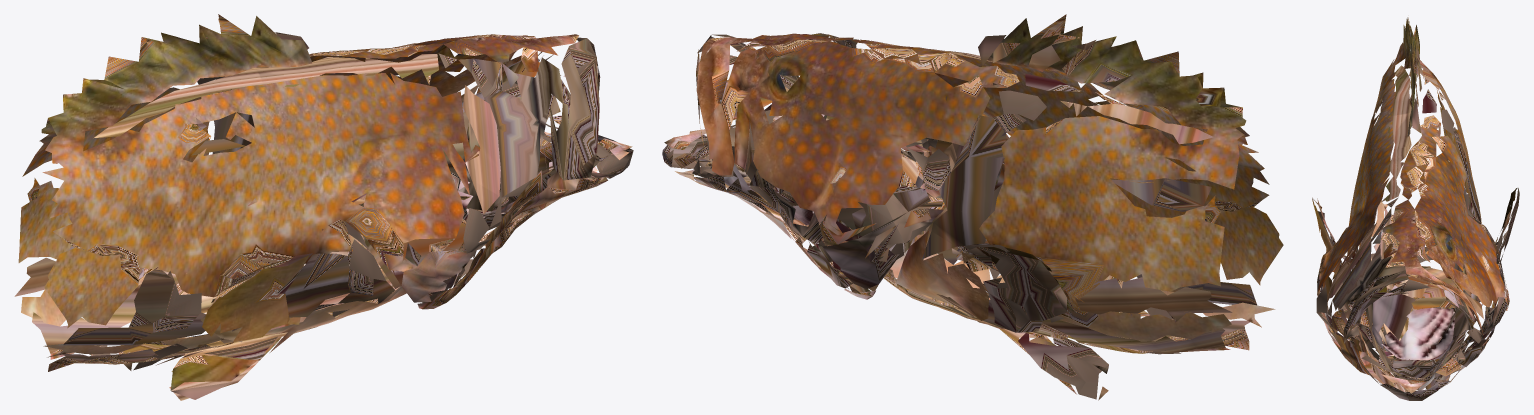
File: grouper_a.glb
3 views of the same model, side by side, from view 1: azimuth 30°, elevation 25°; view 2: azimuth 150°, elevation 25°; view 3: azimuth 270°, elevation 25° (orthographic). The views are drawn at different scales.
Parts seen in each view (by area): view 1: grouper_a; view 2: grouper_a; view 3: grouper_a.
Part boxes in pixels (x1,y1,x2,y2): grouper_a: [14, 14, 633, 400]; grouper_a: [662, 14, 1283, 400]; grouper_a: [1312, 17, 1519, 400].
Bounding box in the file's own units: 0.6659 × 0.377 × 0.2455.
1 material, 1 textured.
